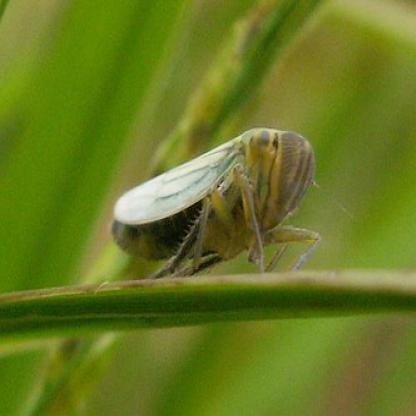Green-Leafhopper: (106, 124, 322, 282)
